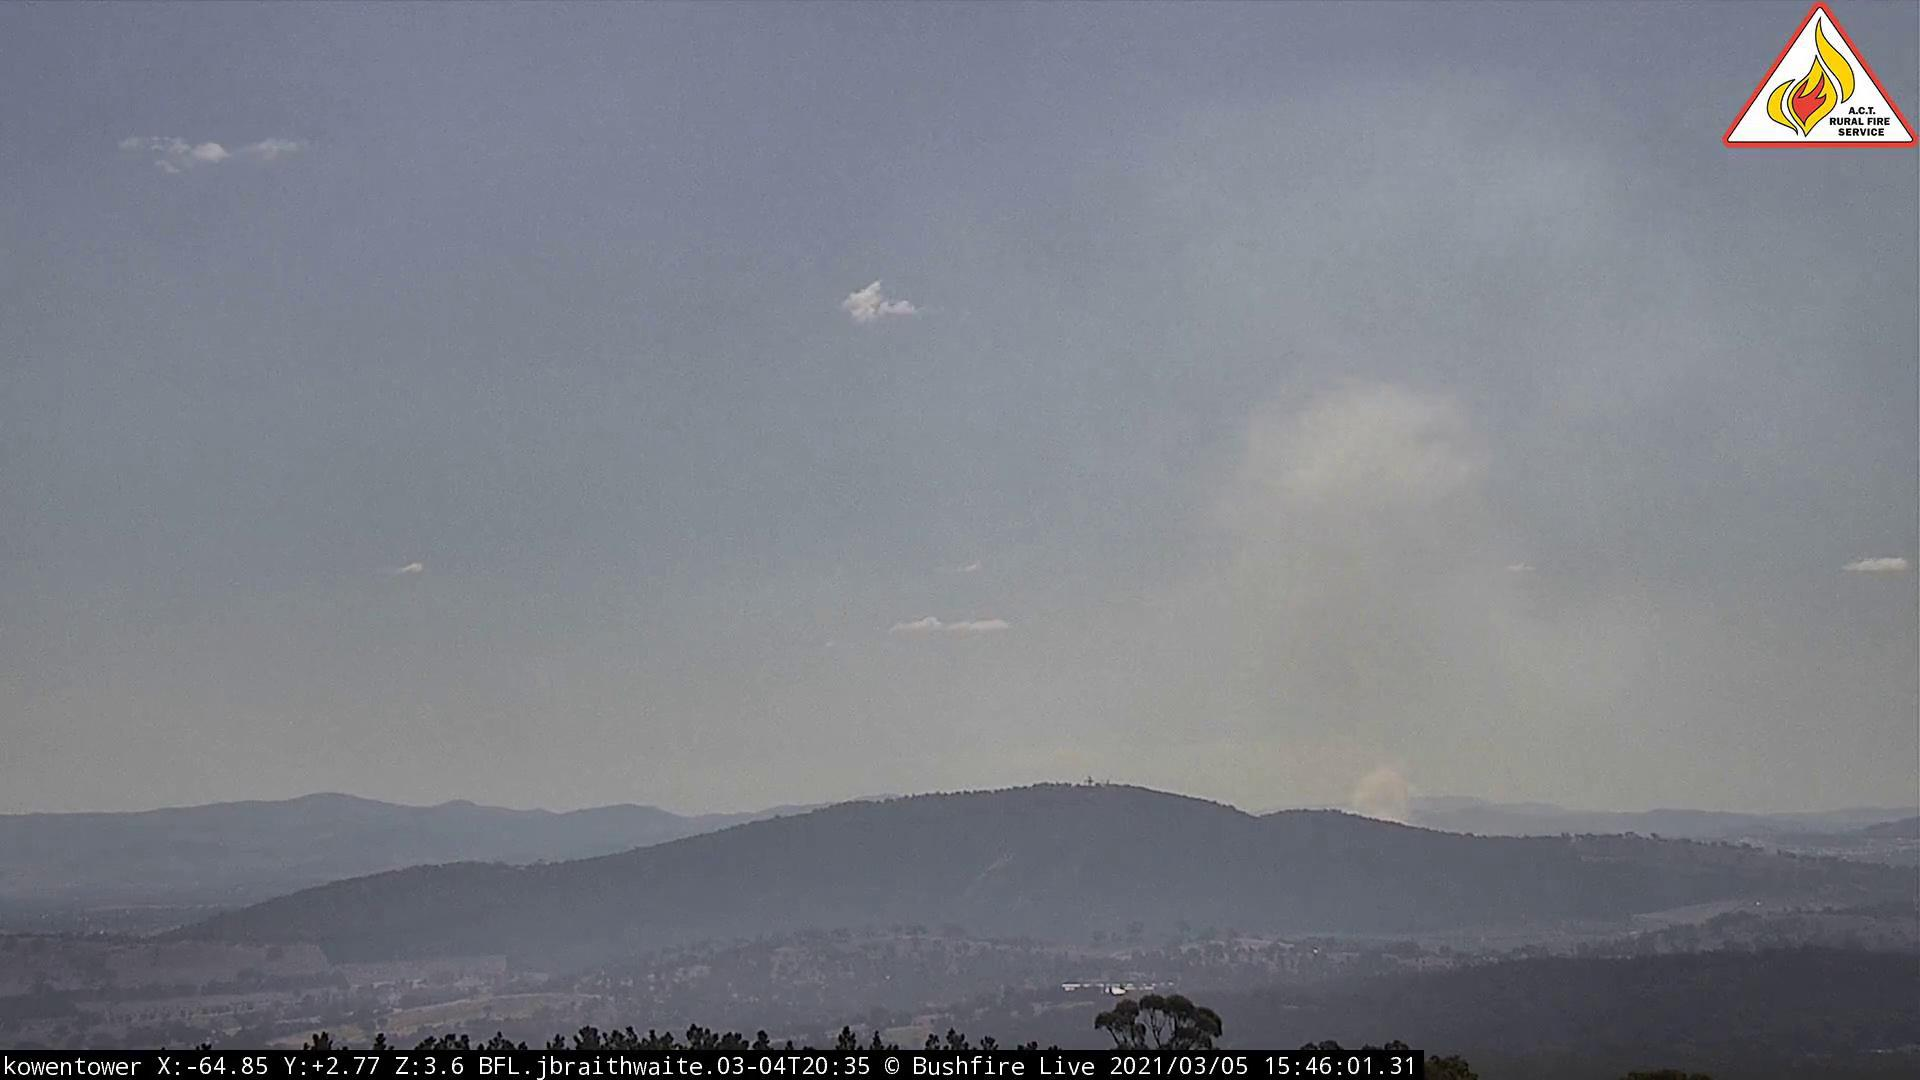Smoke: (1112, 351, 1767, 861)
